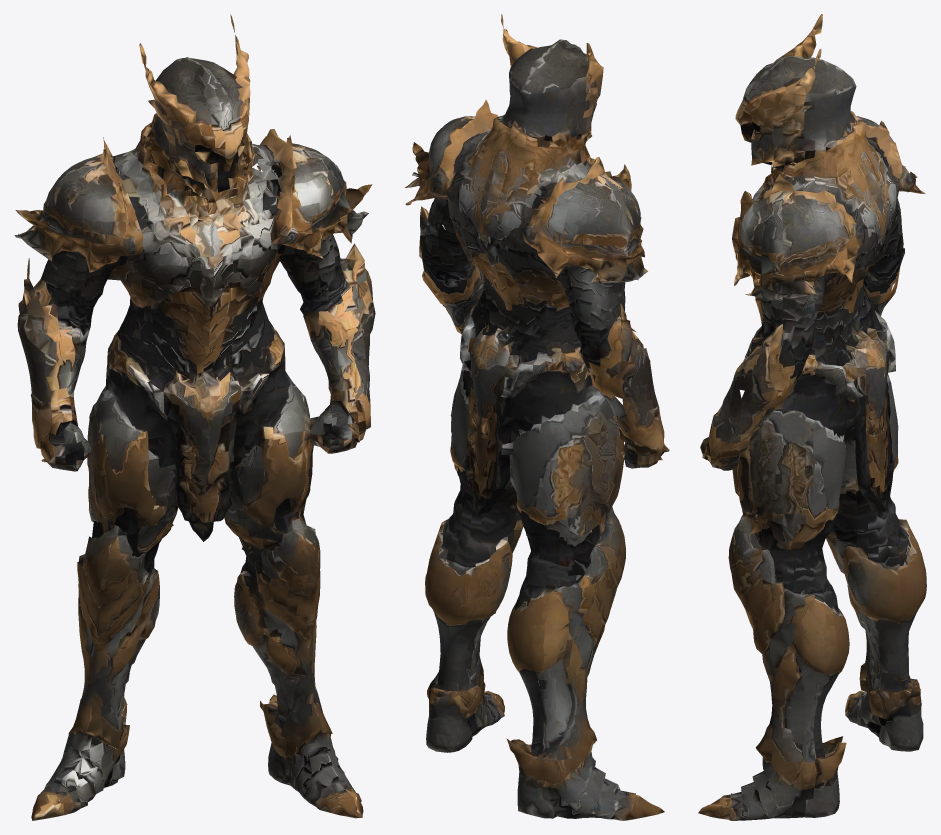
File: zirh_auric.glb
3 renders of one model, left to right at view 1: azimuth 30°, elevation 25°; view 2: azimuth 150°, elevation 25°; view 3: azimuth 270°, elevation 25°, orthographic. The views are drawn at different scales.
Visible parts, largest first — view 1: i_auric; view 2: i_auric; view 3: i_auric.
Part boxes in pixels (x1,y1,x2,y2): i_auric: (14,14,375,820); i_auric: (405,14,669,820); i_auric: (698,14,926,820).
Size of the model in its own units: 0.7723 by 1.9 by 0.5368.
1 material, 1 textured.
